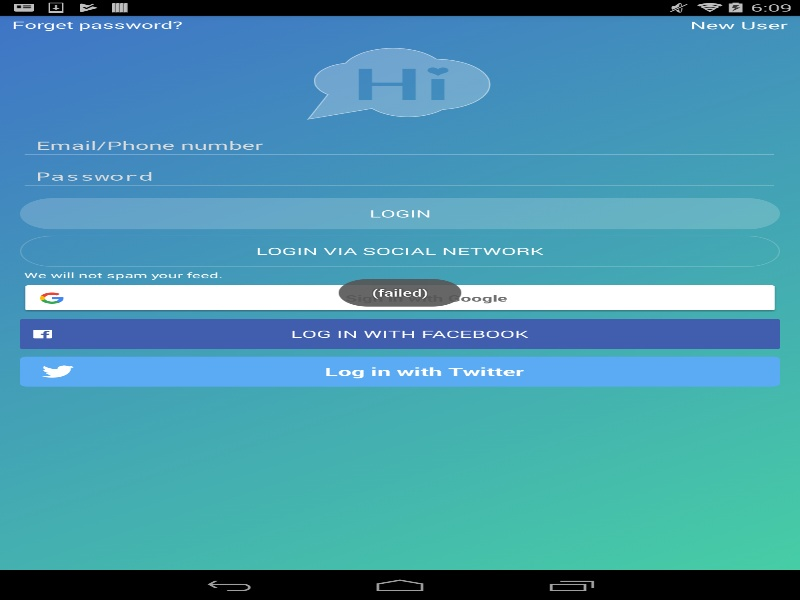Button: (20, 198, 780, 229), (20, 235, 780, 266), (20, 282, 780, 312), (20, 319, 780, 349), (20, 356, 780, 386)
Input: (20, 133, 780, 157), (20, 164, 780, 188)
